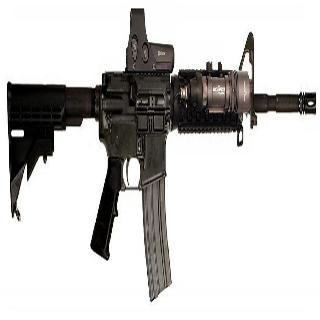gun: (3, 8, 318, 299)
